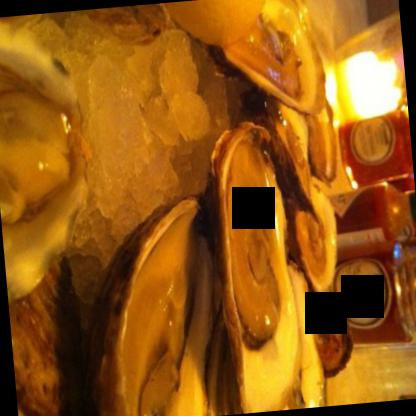oyster: (200, 115, 310, 414), (80, 200, 228, 415), (0, 12, 99, 298), (212, 0, 331, 123)
